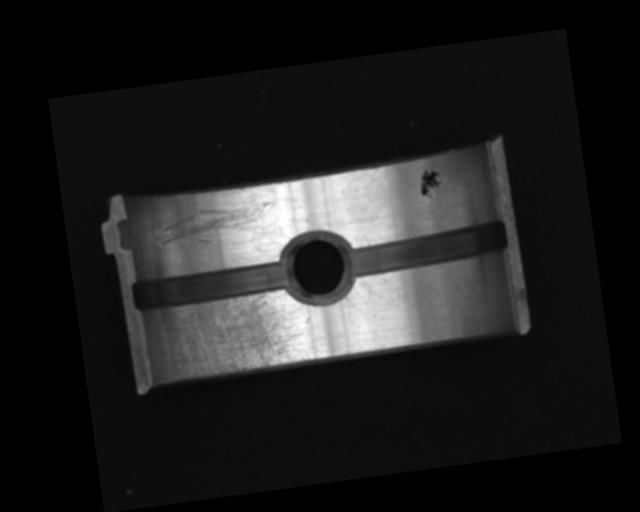blot: (417, 165, 445, 199)
gap: (342, 216, 514, 279), (129, 258, 292, 312)
hole: (278, 232, 357, 306)
nick: (155, 197, 278, 251), (343, 290, 370, 324)
scratch: (151, 287, 310, 384)
